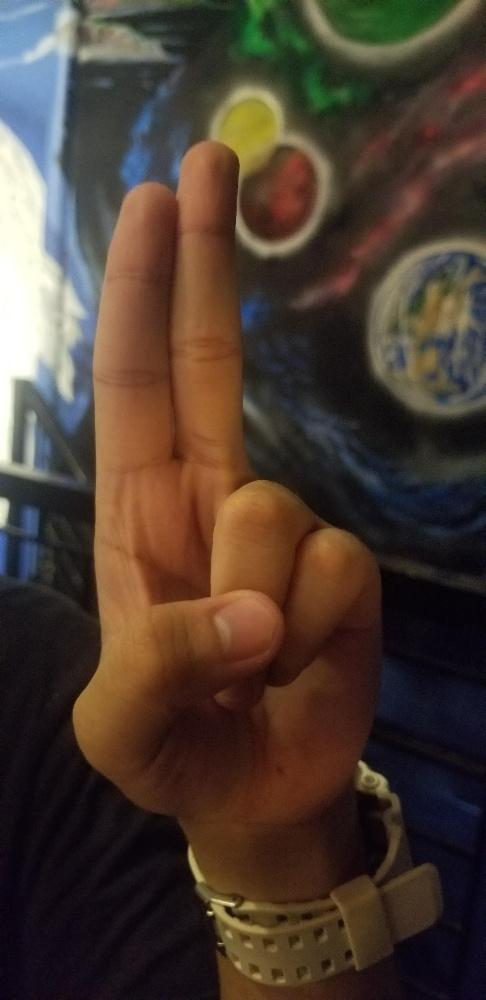u: (67, 142, 382, 816)
